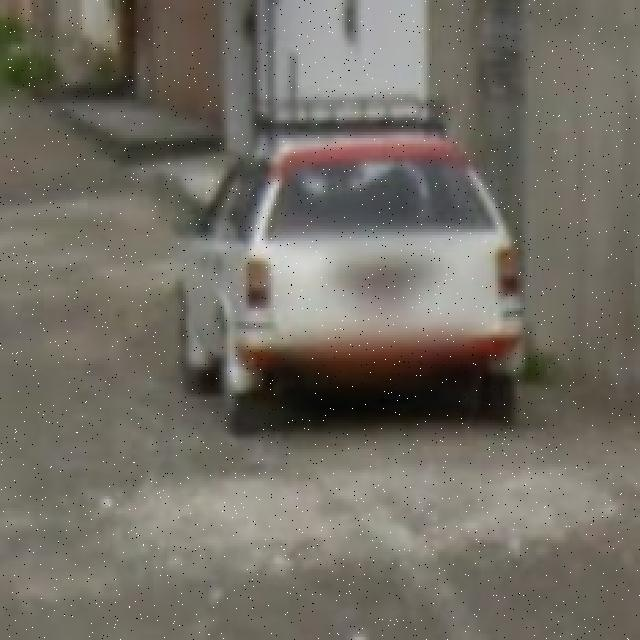cars: (191, 117, 532, 434)
